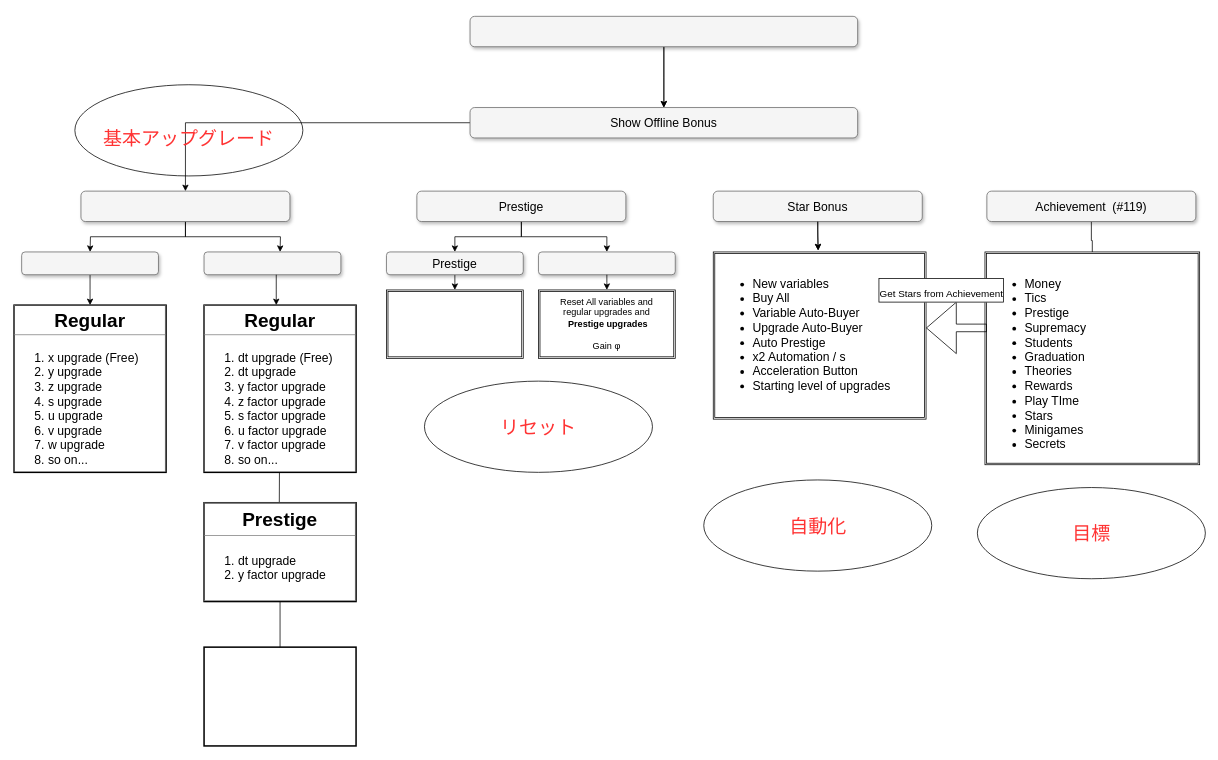
The diagram is 1218 pixels wide and 760 high, and some of its shapes have lost their labels. The shapes that lost their labels are listed below. From the top down, each one's centre as x and y in pixels, then its label:
At point 664,32: "Start Game".
At point 185,207: "Main".
At point 90,264: "Normal Upgrades".
At point 272,264: "Variable Upgrades".
At point 607,264: "Spremacy".
At point 454,323: "Reset All variables and regular upgrades Gain b & μ".
At point 279,696: "Spremacy y exponent upgrade Unlock x1".
